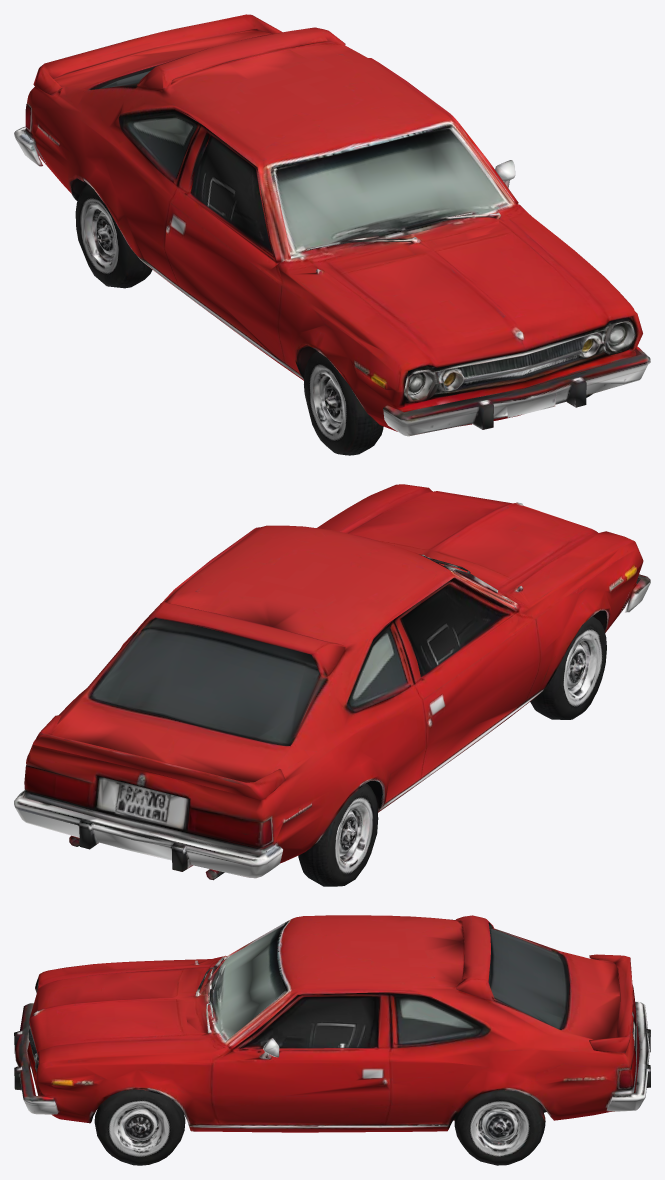
File: hornet.glb
3 views of the same model, one above another, from view 1: azimuth 30°, elevation 25°; view 2: azimuth 150°, elevation 25°; view 3: azimuth 270°, elevation 25° (orthographic). The views are drawn at different scales.
Parts seen in each view (by area): view 1: node_0; view 2: node_0; view 3: node_0.
Boxes of the visible parts, <box> form: node_0: <box>14,14,650,455</box>; node_0: <box>14,484,650,886</box>; node_0: <box>14,915,650,1165</box>.
Bounding box in the file's own units: 0.4675 × 0.3513 × 1.15.
1 material, 1 textured.
